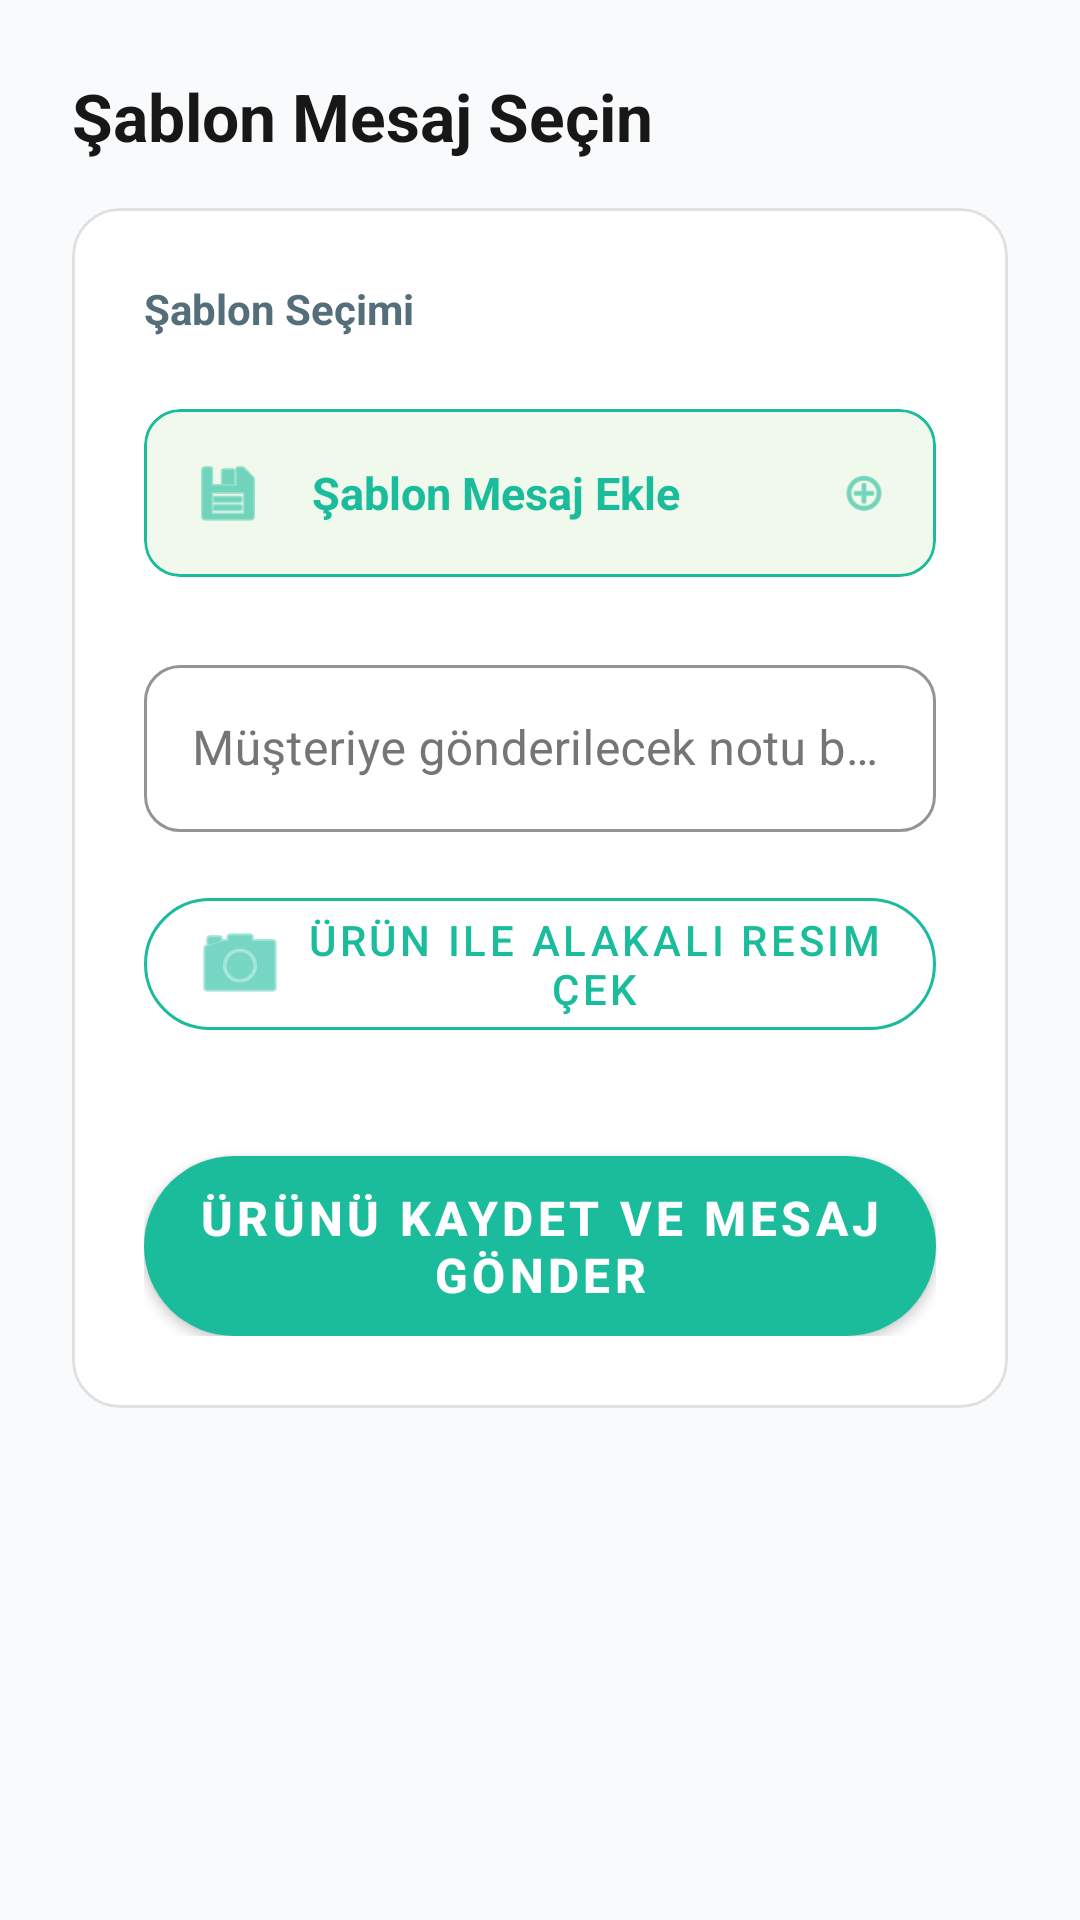

Point at icon controls on the screen. Image size 1080*1920, points as point (x, y).
add: point (864, 493)
